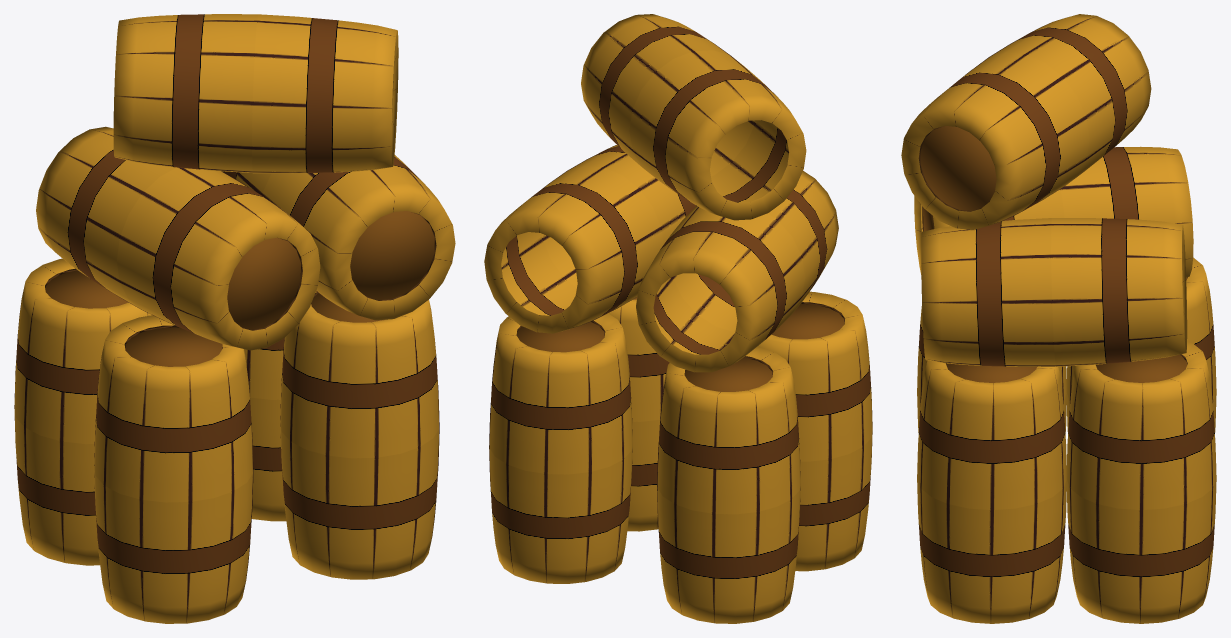
The model's file is barrel3.obj.
3 views of the same model, side by side, from view 1: azimuth 30°, elevation 25°; view 2: azimuth 150°, elevation 25°; view 3: azimuth 270°, elevation 25° (orthographic). The views are drawn at different scales.
Visible parts, largest first — view 1: Line009, Line001, Line005, Line006, Line007, Line004, Cylinder008, Line008, Cylinder012, Cylinder002, Cylinder016, Cylinder010; view 2: Line007, Line008, Line009, Line006, Line004, Line001, Line005, Cylinder016, Cylinder002, Cylinder014; view 3: Line004, Line008, Line005, Line009, Line006, Cylinder018, Line007, Cylinder014, Cylinder010, Line001.
Boxes of the visible parts, x1=… form: Line009: x1=113, y1=14, x2=398, y2=173; Line001: x1=94, y1=315, x2=253, y2=623; Line005: x1=280, y1=291, x2=439, y2=579; Line006: x1=36, y1=126, x2=320, y2=350; Line007: x1=14, y1=258, x2=152, y2=565; Line004: x1=222, y1=155, x2=455, y2=320; Cylinder008: x1=350, y1=211, x2=434, y2=299; Line008: x1=244, y1=338, x2=286, y2=521; Cylinder012: x1=227, y1=238, x2=300, y2=329; Cylinder002: x1=125, y1=327, x2=222, y2=366; Cylinder016: x1=46, y1=270, x2=128, y2=308; Cylinder010: x1=312, y1=293, x2=384, y2=322; Line007: x1=657, y1=344, x2=800, y2=623; Line008: x1=489, y1=313, x2=632, y2=583; Line009: x1=581, y1=14, x2=806, y2=220; Line006: x1=636, y1=171, x2=838, y2=372; Line004: x1=484, y1=145, x2=696, y2=333; Line001: x1=757, y1=291, x2=872, y2=571; Line005: x1=608, y1=299, x2=669, y2=531; Cylinder016: x1=685, y1=357, x2=772, y2=391; Cylinder002: x1=771, y1=303, x2=843, y2=339; Cylinder014: x1=517, y1=322, x2=604, y2=352; Line004: x1=921, y1=218, x2=1187, y2=366; Line008: x1=1066, y1=341, x2=1216, y2=623; Line005: x1=917, y1=360, x2=1066, y2=623; Line009: x1=901, y1=14, x2=1151, y2=229; Line006: x1=914, y1=146, x2=1193, y2=277; Cylinder018: x1=920, y1=126, x2=996, y2=210; Line007: x1=1066, y1=257, x2=1216, y2=432; Cylinder014: x1=1096, y1=354, x2=1186, y2=382; Cylinder010: x1=946, y1=363, x2=1036, y2=382; Line001: x1=917, y1=306, x2=1066, y2=433.
Bounding box in the file's own units: 1888 × 2974 × 1688.
Materials: 3 (1 with a texture image).
